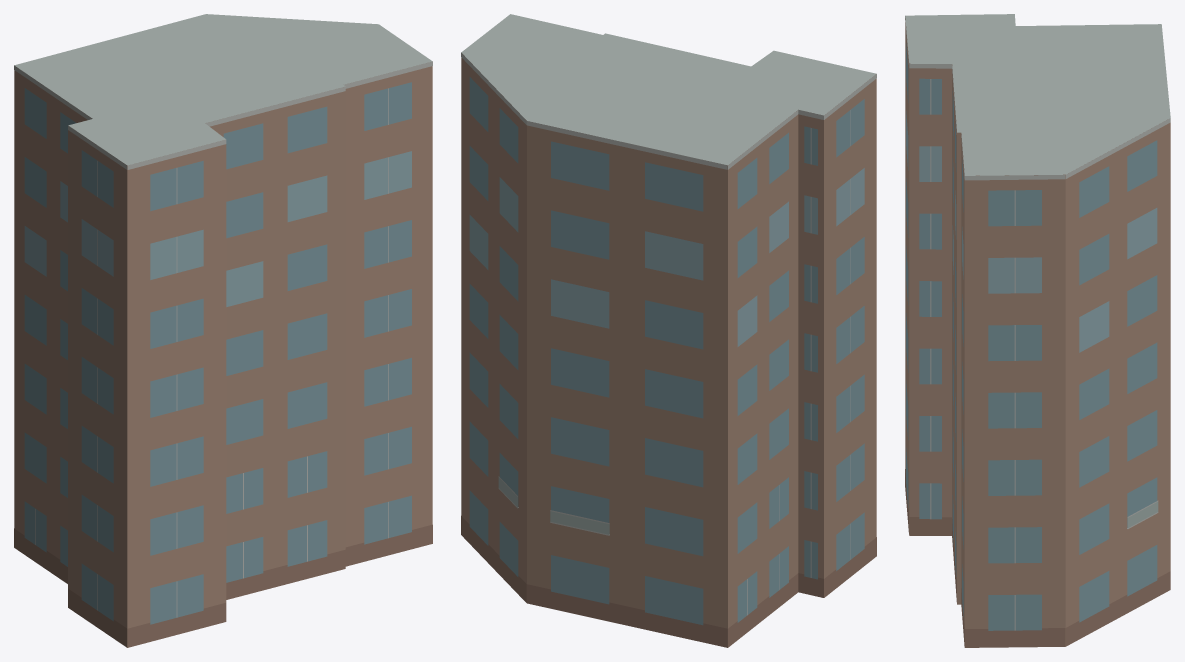
Rendered from survey-upis-32822882.glb.
The picture shows the model from 3 angles, left to right: view 1: azimuth 30°, elevation 25°; view 2: azimuth 150°, elevation 25°; view 3: azimuth 270°, elevation 25°; orthographic projection. The views are drawn at different scales.
Visible parts, largest first — view 1: survey-upis-32822882.tmp; view 2: survey-upis-32822882.tmp; view 3: survey-upis-32822882.tmp.
Boxes of the visible parts, x1,y1,x2,y2 form: survey-upis-32822882.tmp: (14,14,432,647); survey-upis-32822882.tmp: (461,14,876,647); survey-upis-32822882.tmp: (905,14,1170,647).
Bounding box in the file's own units: 18.77 × 25.5 × 13.01.
